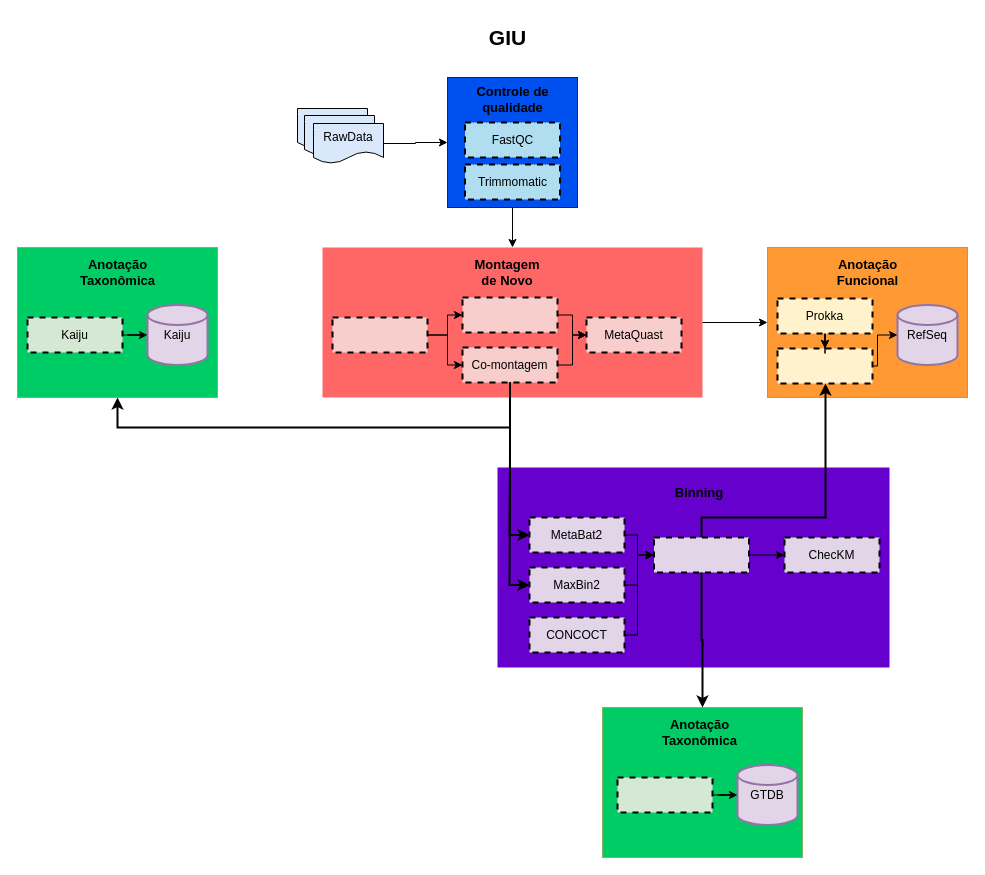
This 985x875 diagram has some shape labels left out. Each missing label, with the centre of its shape:
DasTools: [701,554]
GTDB-tk: [664,794]
MetaSpades: [379,334]
Montagem Individual: [509,314]
RASTtk: [824,365]
